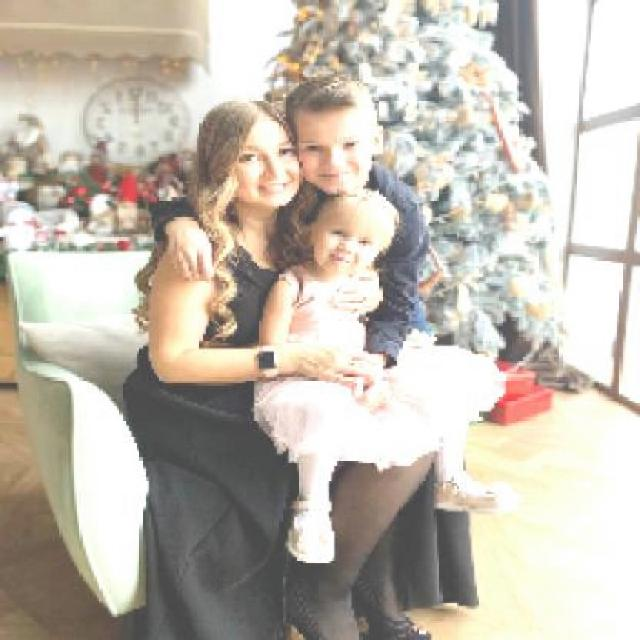child: (251, 188, 520, 563)
